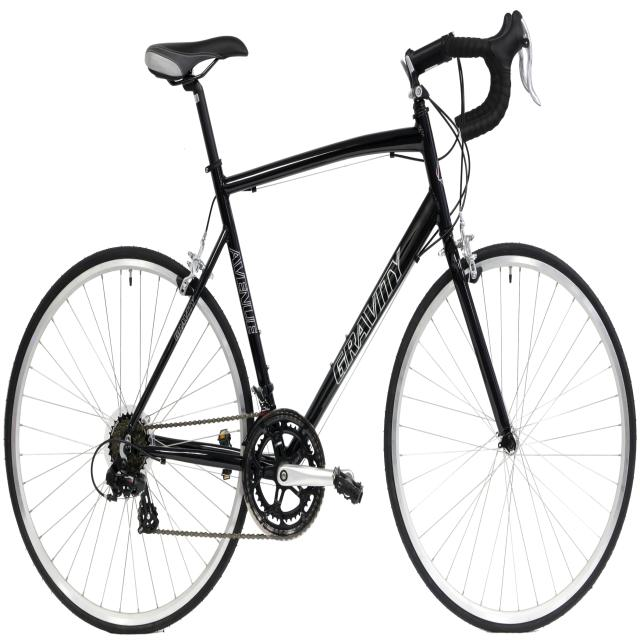road-bike: (6, 10, 637, 635)
